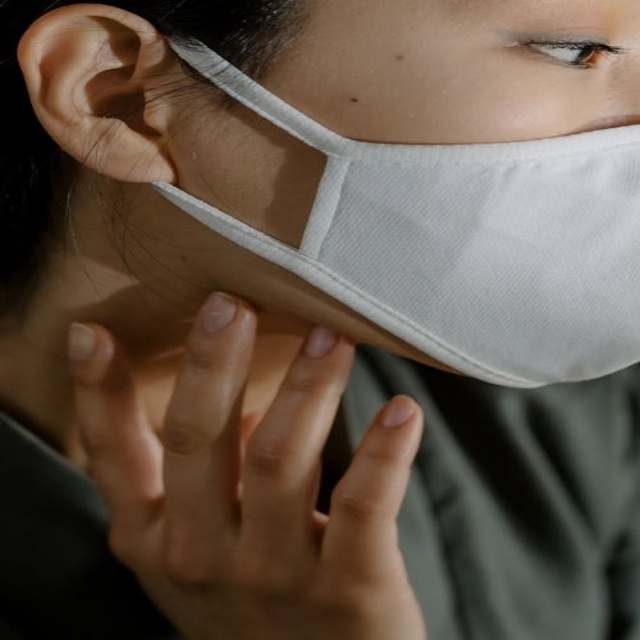Mascara: (123, 24, 640, 393)
Sin_gafas: (294, 8, 636, 105)
Sin_guantes: (61, 280, 428, 640)
